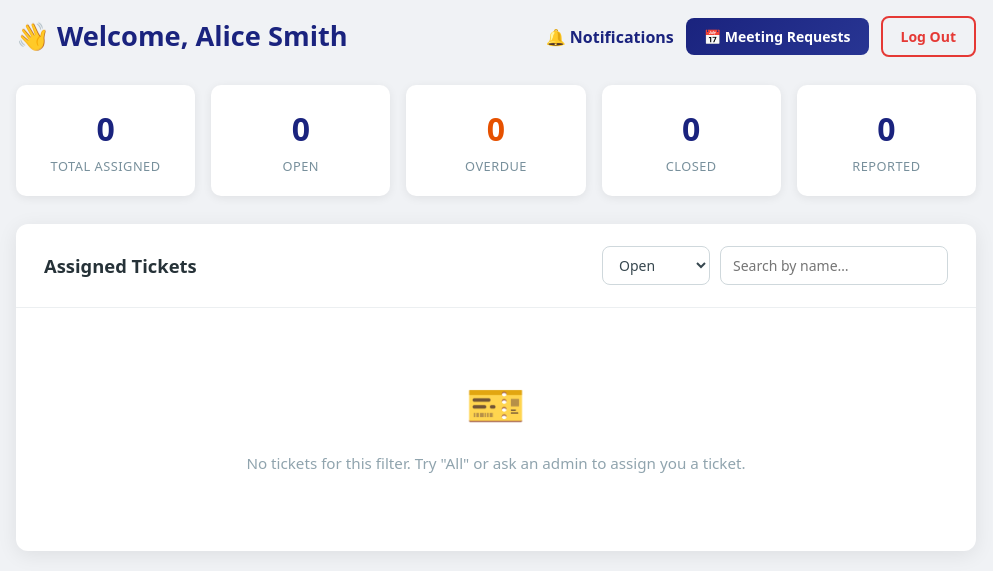
Test: StaffDashboardPage – empty states › shows "No tickets assigned to you." when filter is changed to "all"
Select "All" in the dropdown at (656, 266), box x1=602 y1=246 x2=710 y2=285
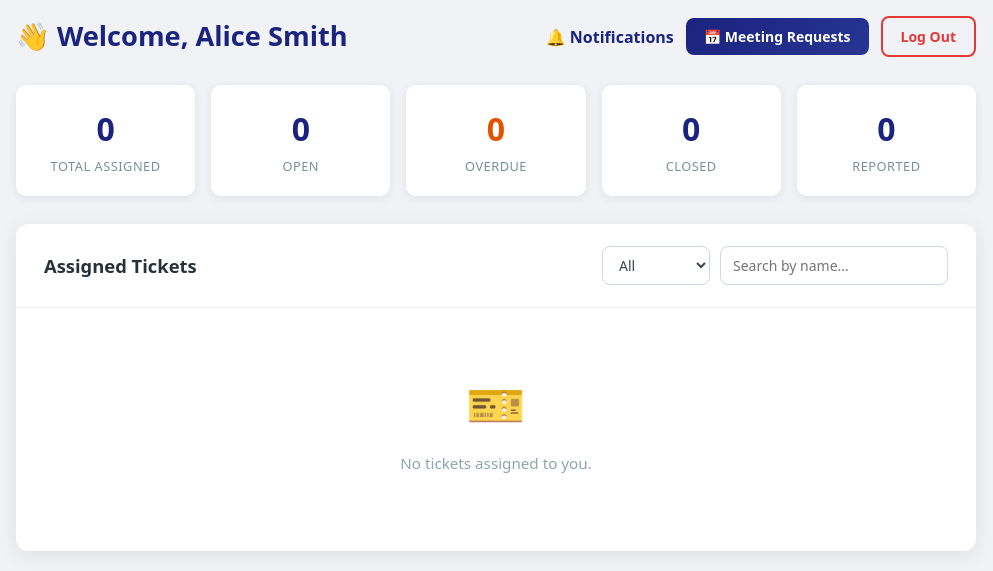
Expected: the text "No tickets assigned to you." is shown, x1=400 y1=453 x2=592 y2=473
